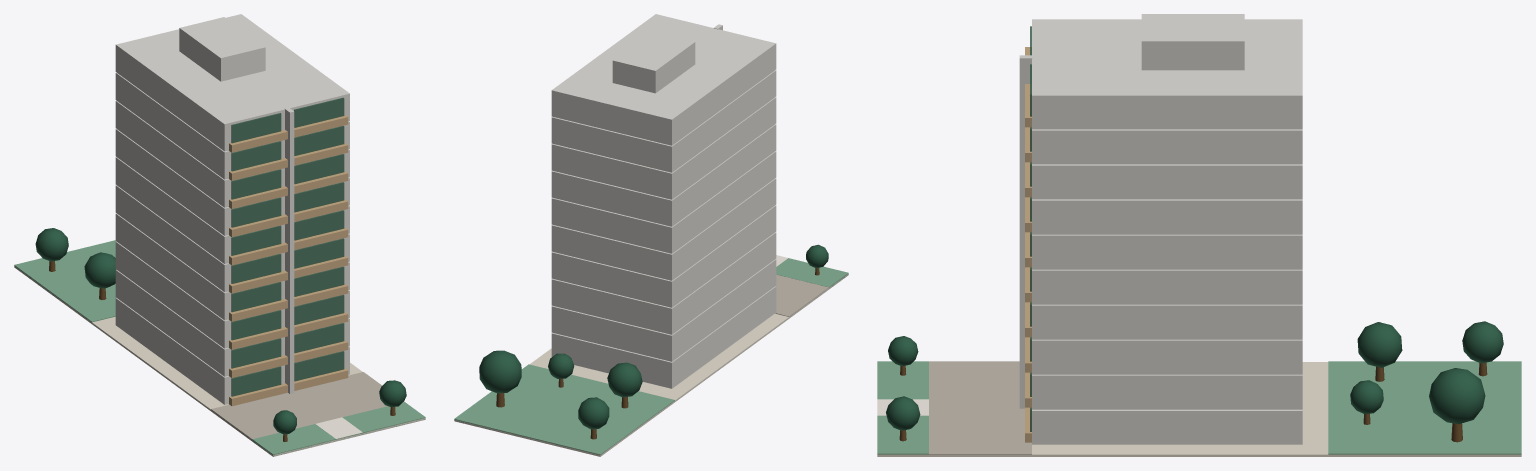
File: monterrey-norte.glb
3 renders of one model, left to right at view 1: azimuth 30°, elevation 25°; view 2: azimuth 150°, elevation 25°; view 3: azimuth 270°, elevation 25°, orthographic. The views are drawn at different scales.
Size of the model in its own units: 0.17 by 0.328 by 0.5.
